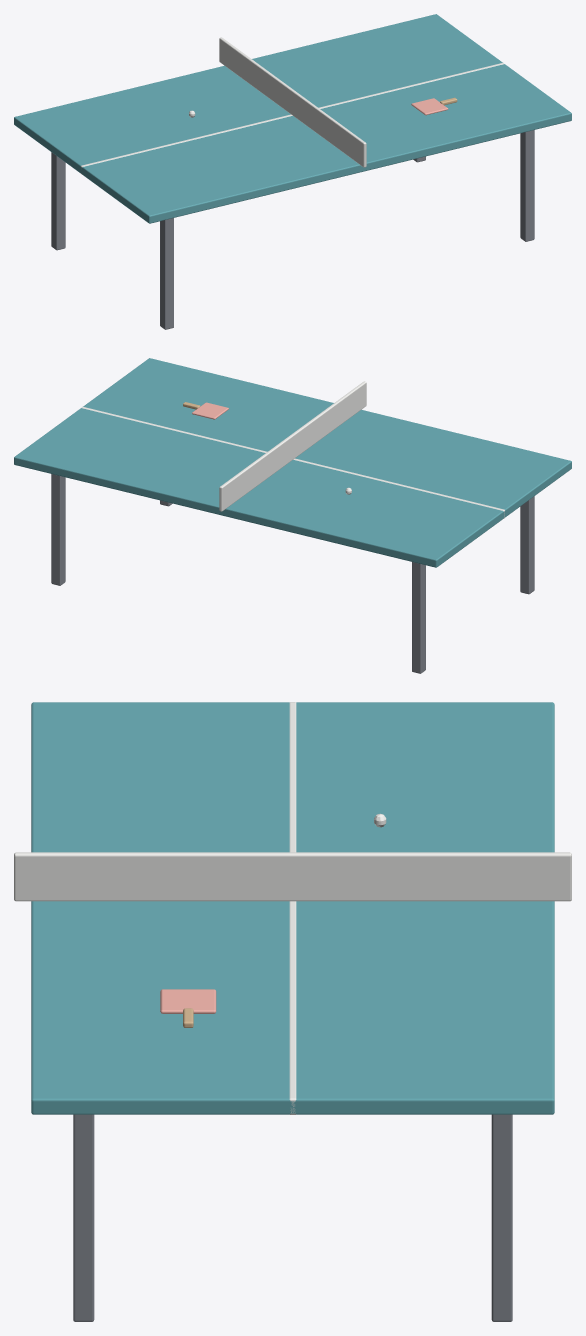
File: PingPong.fbx
The picture shows the model from 3 angles, top to bottom: view 1: azimuth 30°, elevation 25°; view 2: azimuth 150°, elevation 25°; view 3: azimuth 270°, elevation 25°; orthographic projection. The views are drawn at different scales.
Parts seen in each view (by area): view 1: PingPong; view 2: PingPong; view 3: PingPong.
Part boxes in pixels (x1=…): PingPong: x1=14, y1=14, x2=571, y2=329; PingPong: x1=14, y1=358, x2=571, y2=673; PingPong: x1=14, y1=702, x2=571, y2=1321.
Bounding box in the file's own units: 2.7 × 0.935 × 1.6.
